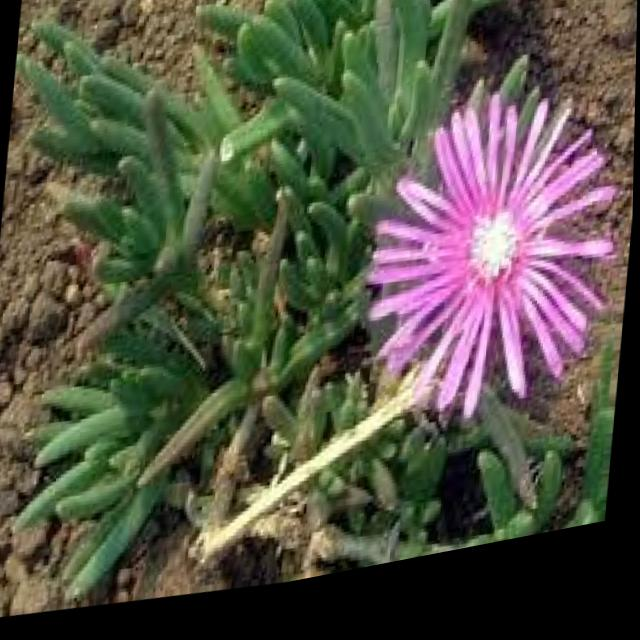Flower: (355, 72, 635, 457)
